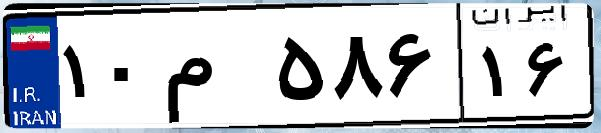0: (110, 28, 158, 98)
1: (57, 26, 110, 100), (475, 38, 525, 113)
5: (270, 28, 330, 110)
6: (385, 28, 445, 110), (525, 38, 570, 115)
8: (330, 28, 385, 110)
م: (158, 20, 270, 120)
